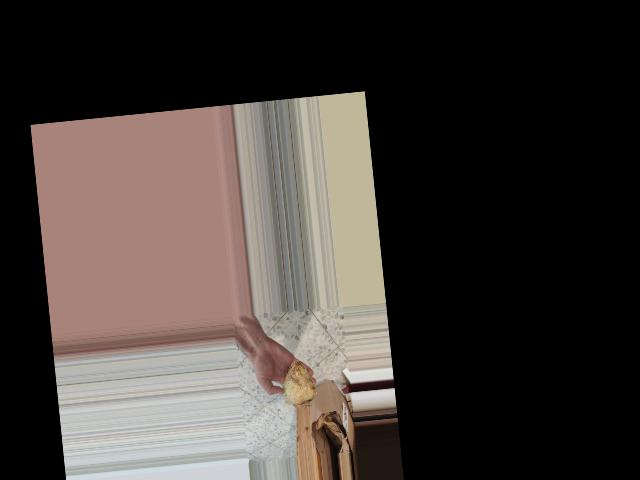onion: (277, 357, 318, 408)
